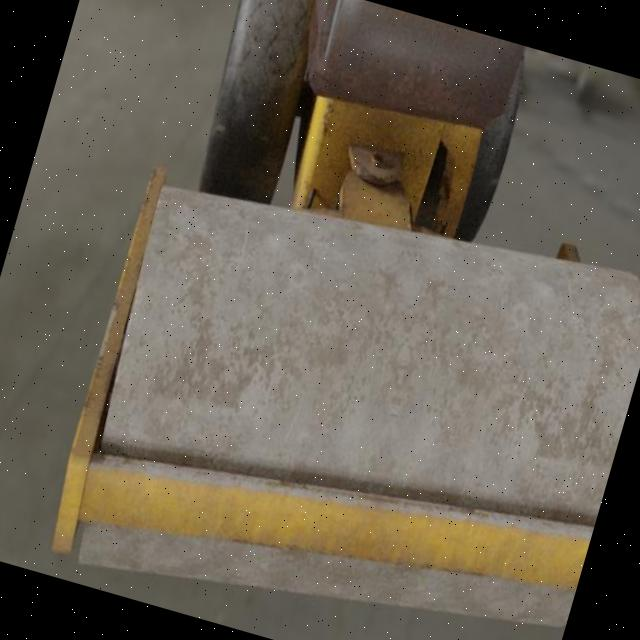Roller: (40, 0, 640, 640)
